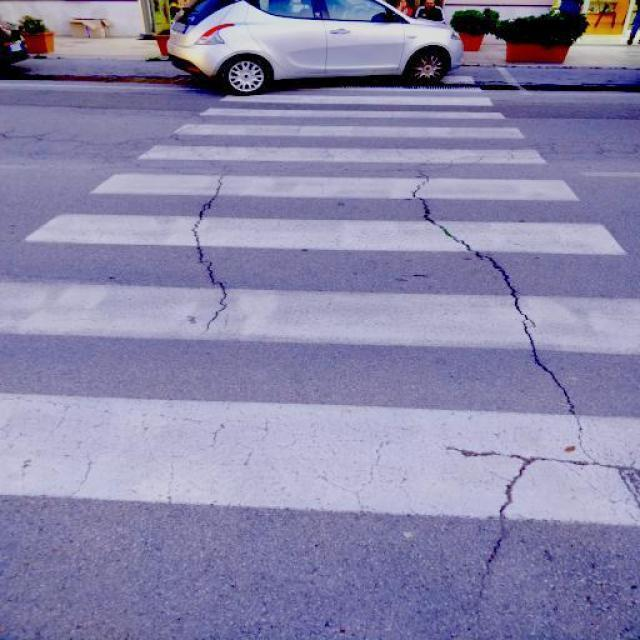crosswalk: (0, 86, 640, 530)
